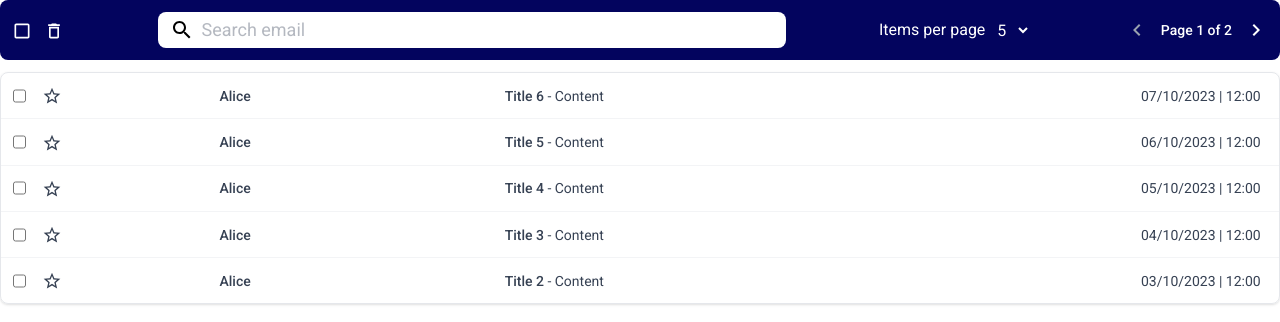
MessageList Component › handles pagination correctly
The width and height of the screenshot is (1280, 322).
Expected: the text "Title 6" is shown, [505,88,544,104]
Expected: the text "Title 1" is not shown
Click the 2nd icon with test id "KeyboardArrowLeftIcon".
click(1256, 30)  # box [1244,18,1268,42]
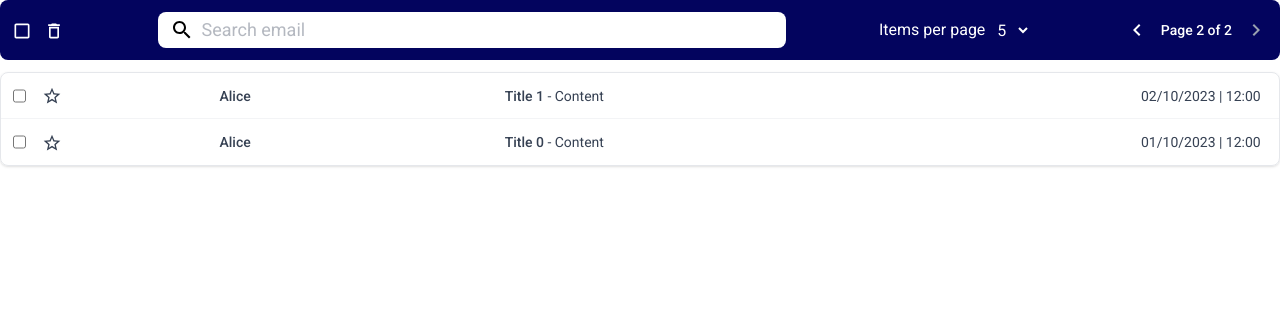
Result: the text "Title 1" is shown at [505,88,544,104]
